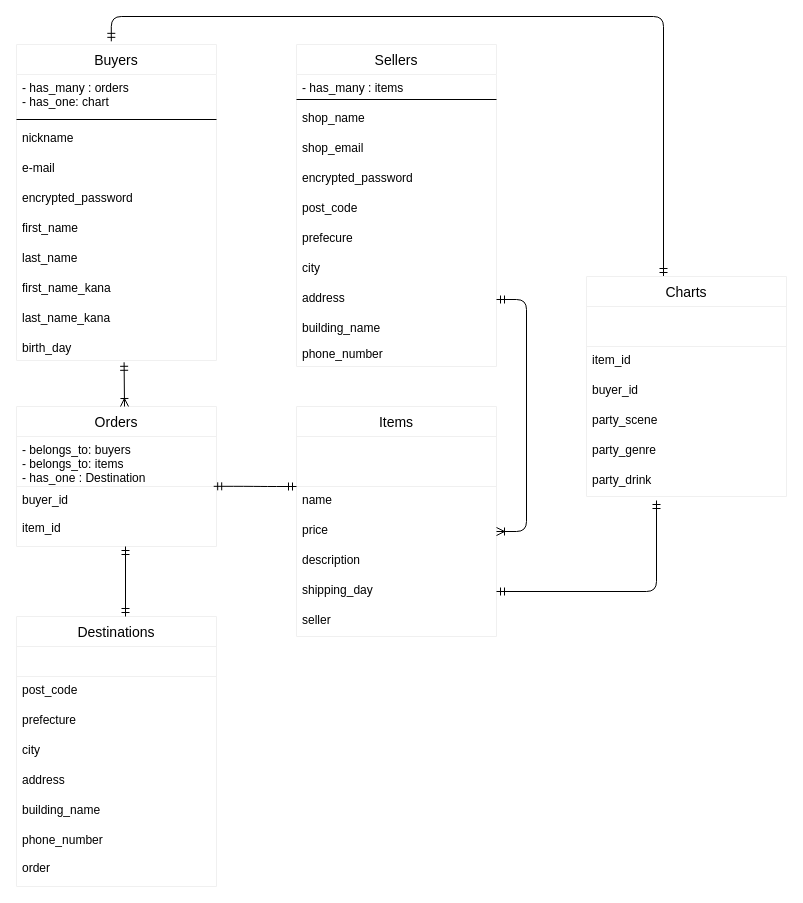
This 803x903 diagram has some shape labels left out. Here are the shapes that lost their labels. From the top down, the centre of each, then its label:
At point (686, 326): "- belongs : items - belongs : buyers".
At point (396, 461): "- belongs_to: sellers - has_one : order - has_one : chart".
At point (116, 661): "- belongs_to : Order".
